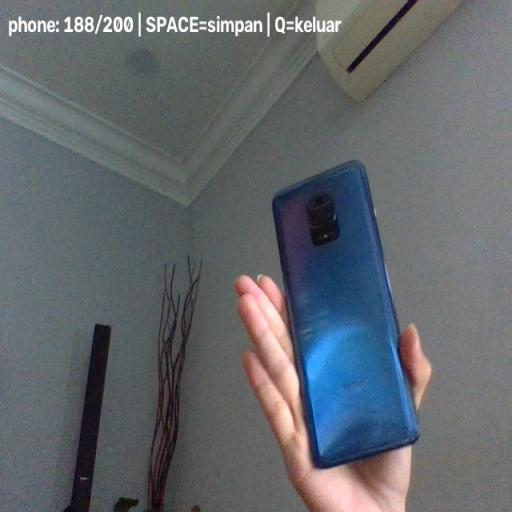Phone: (272, 160, 421, 468)
